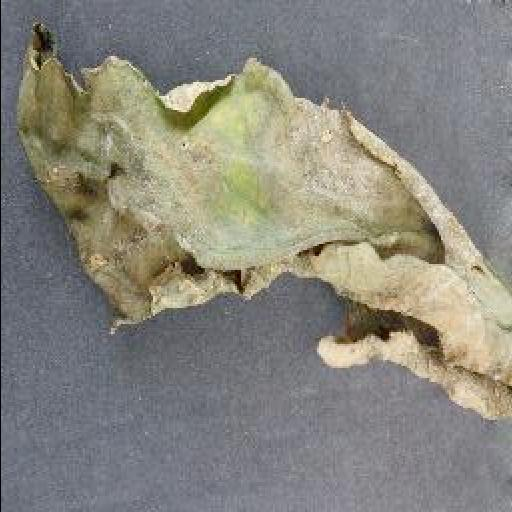disease_tomato: (18, 28, 512, 422)
